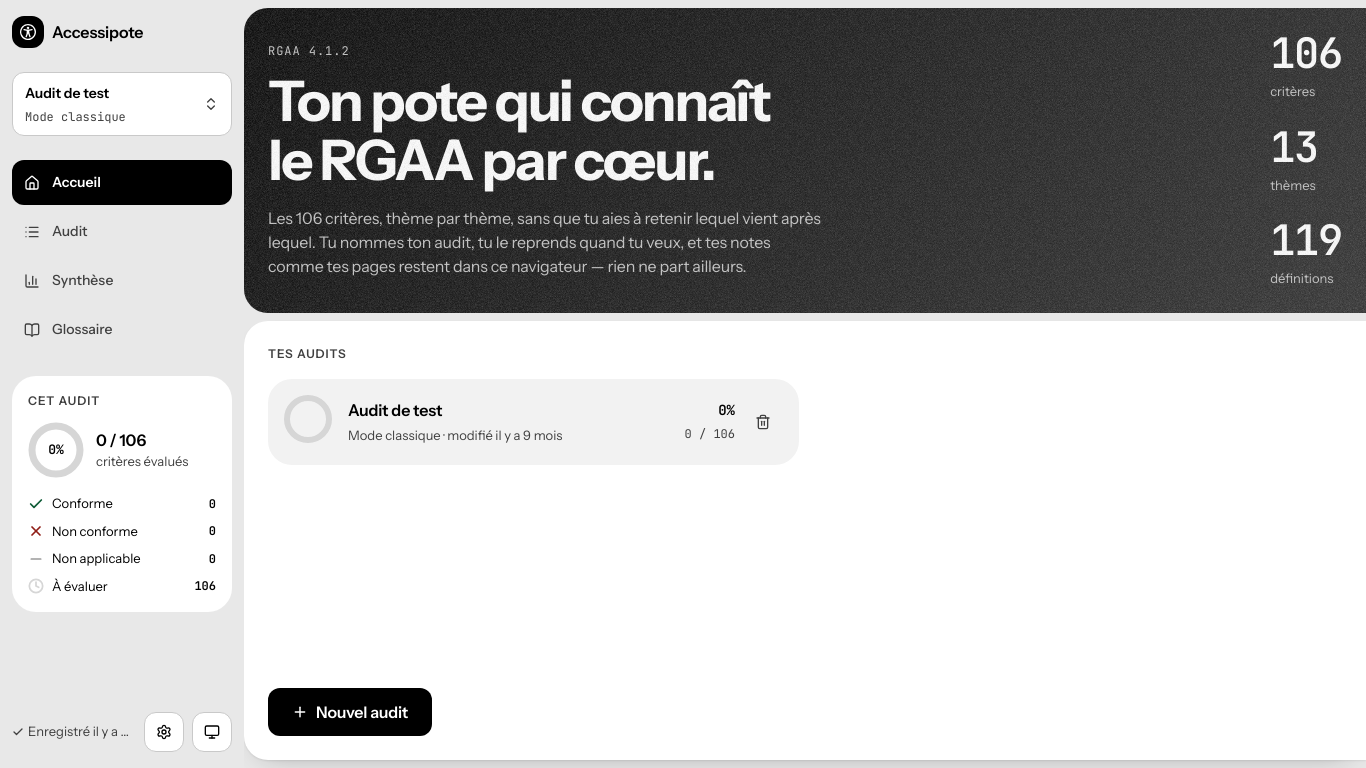
Test case: App — cycle de vie d'un audit › annonce la suppression d'un audit depuis l'accueil
Click the button "Accueil" at point(122, 182), box [12,160,232,205]
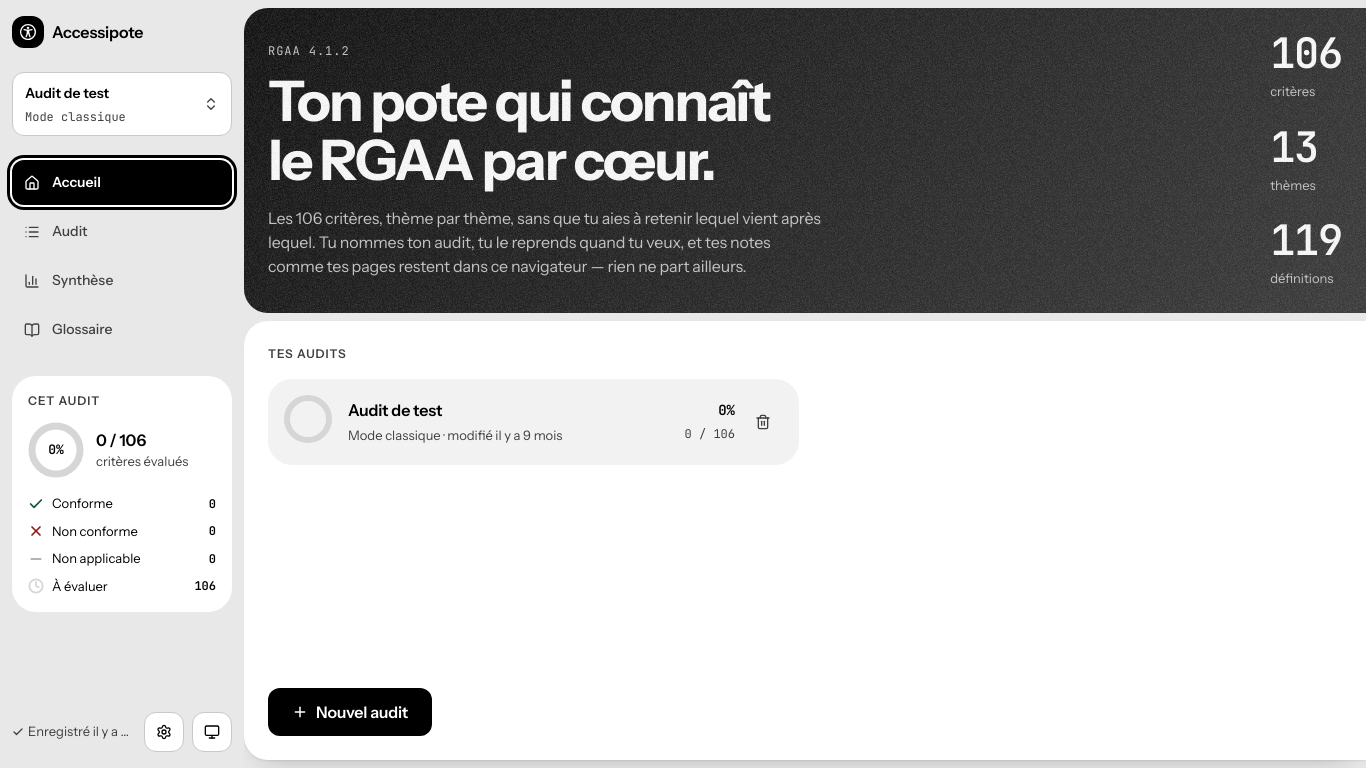
Click the button named "Supprimer l'audit Audit de test" at point(763, 422), box [743,402,783,442]
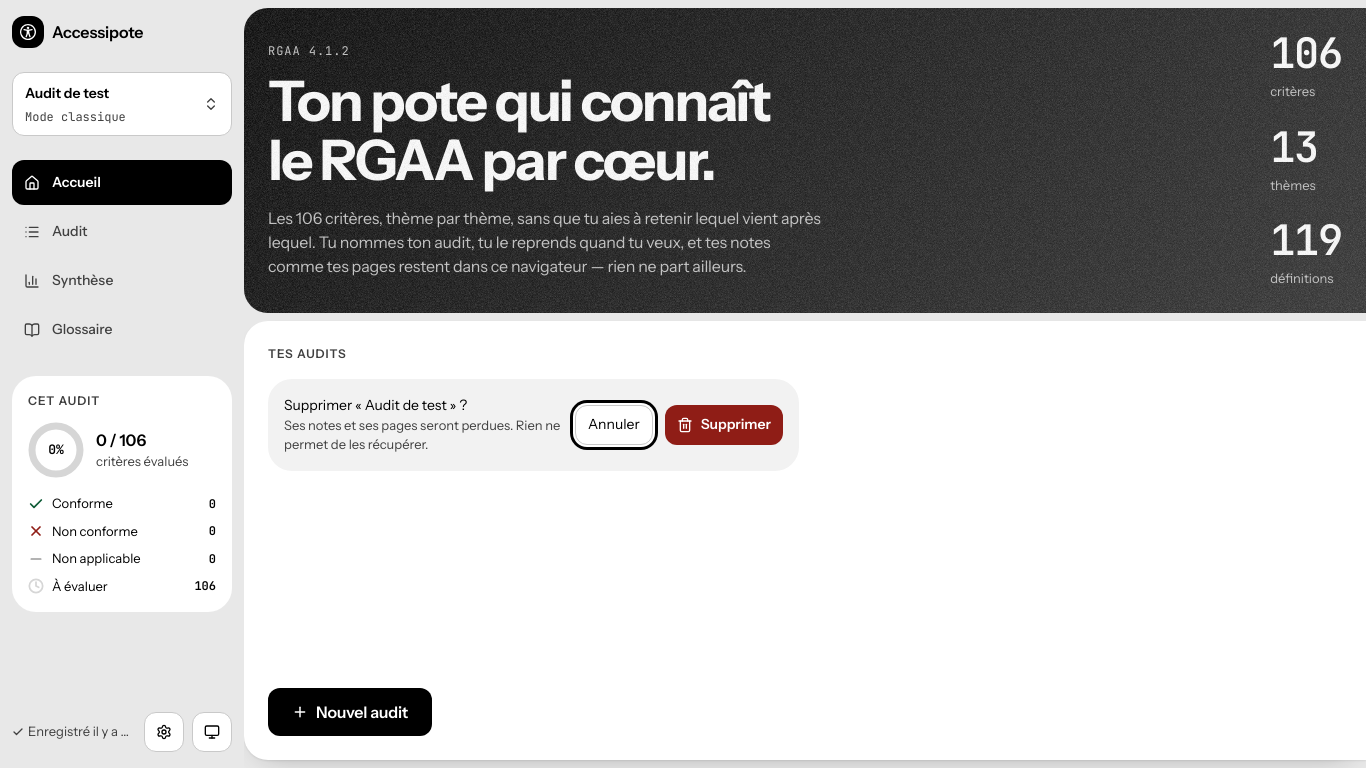
Click the button "Supprimer" at point(724, 424), box [665,404,783,444]
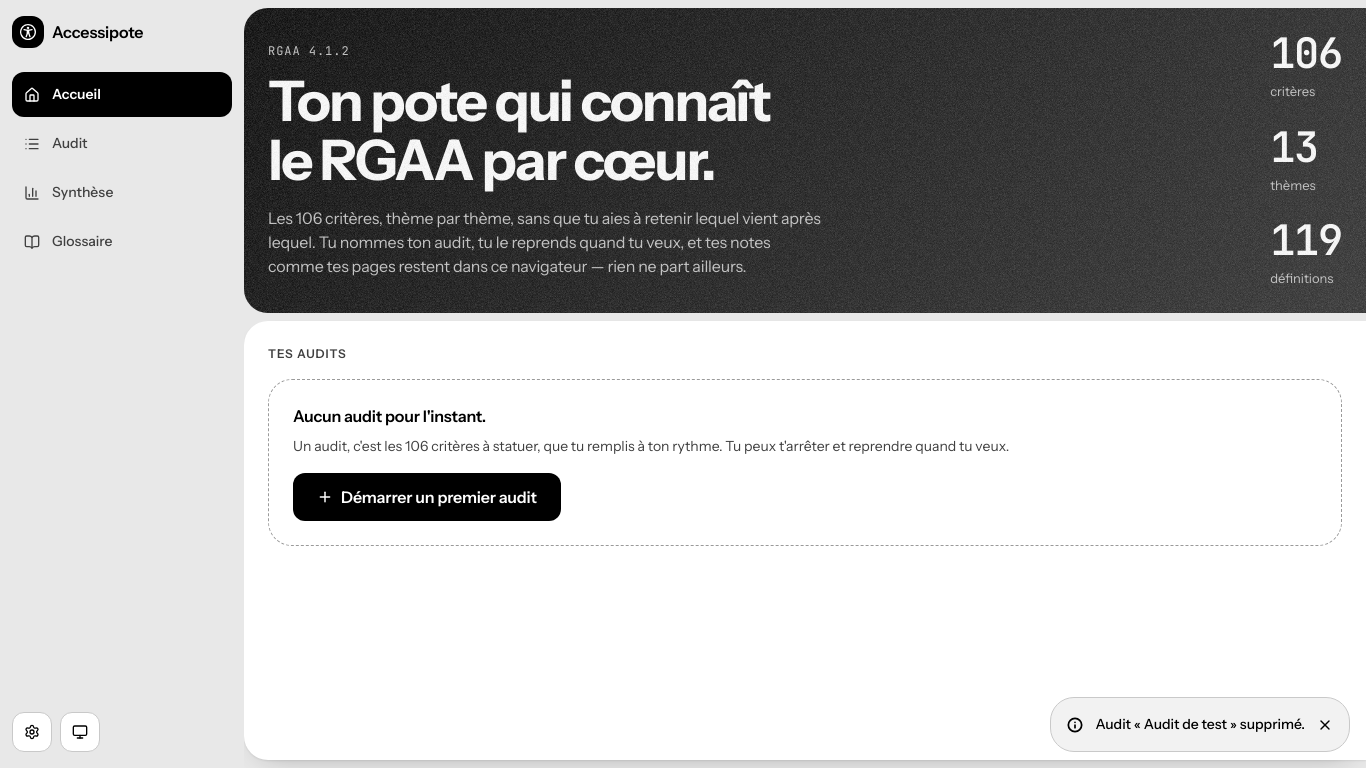
expect the text "Audit « Audit de test » supprimé." is shown: met, box [1096,714,1305,735]
